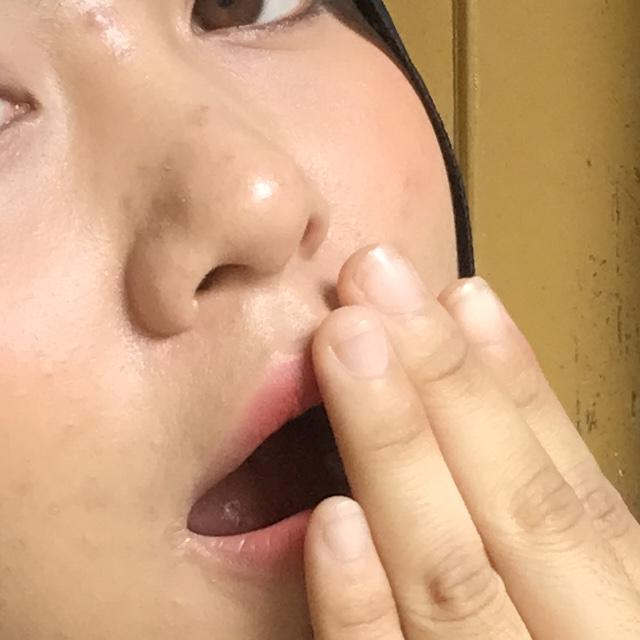ngantuk: (60, 176, 640, 640)
